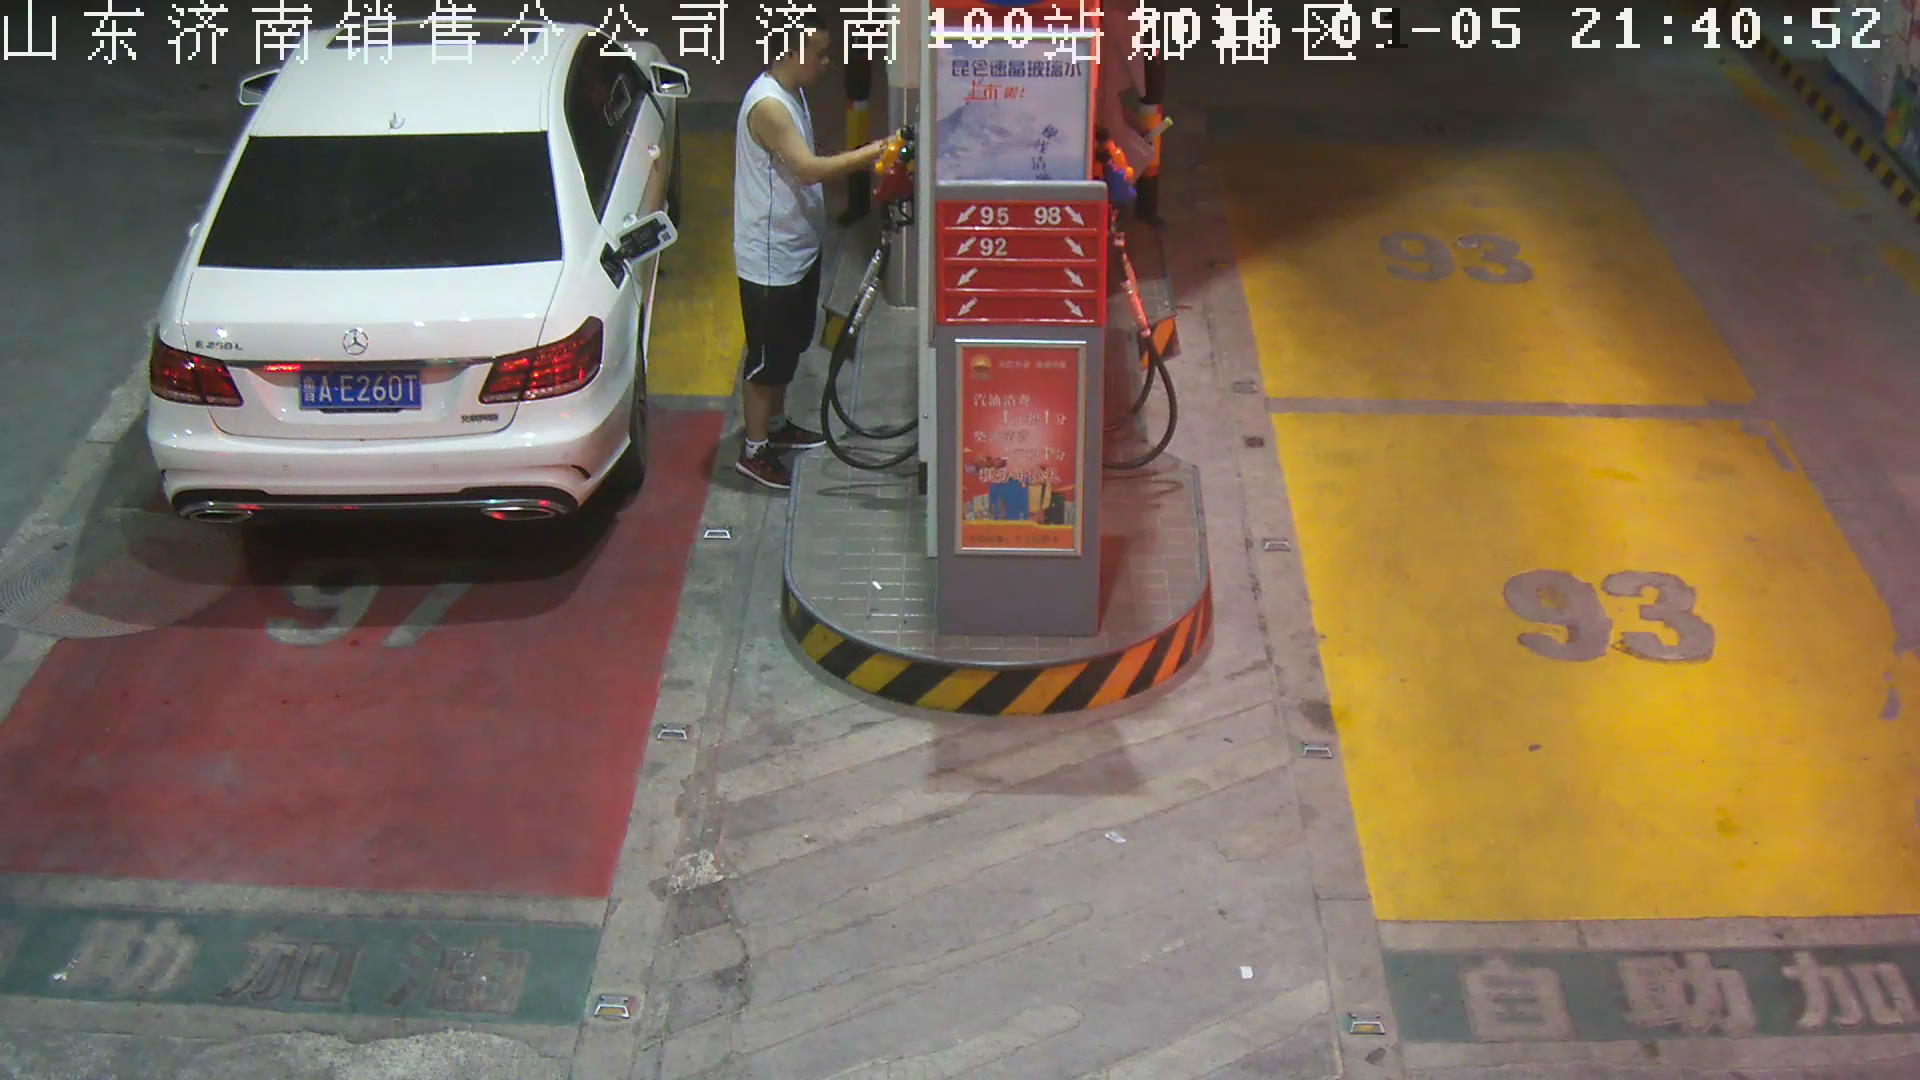blue: (297, 367, 423, 414)
